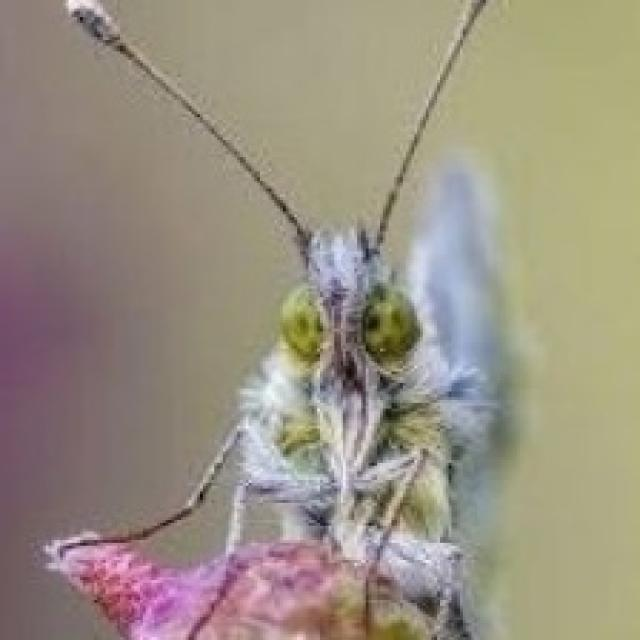butterfly: (59, 0, 532, 640)
